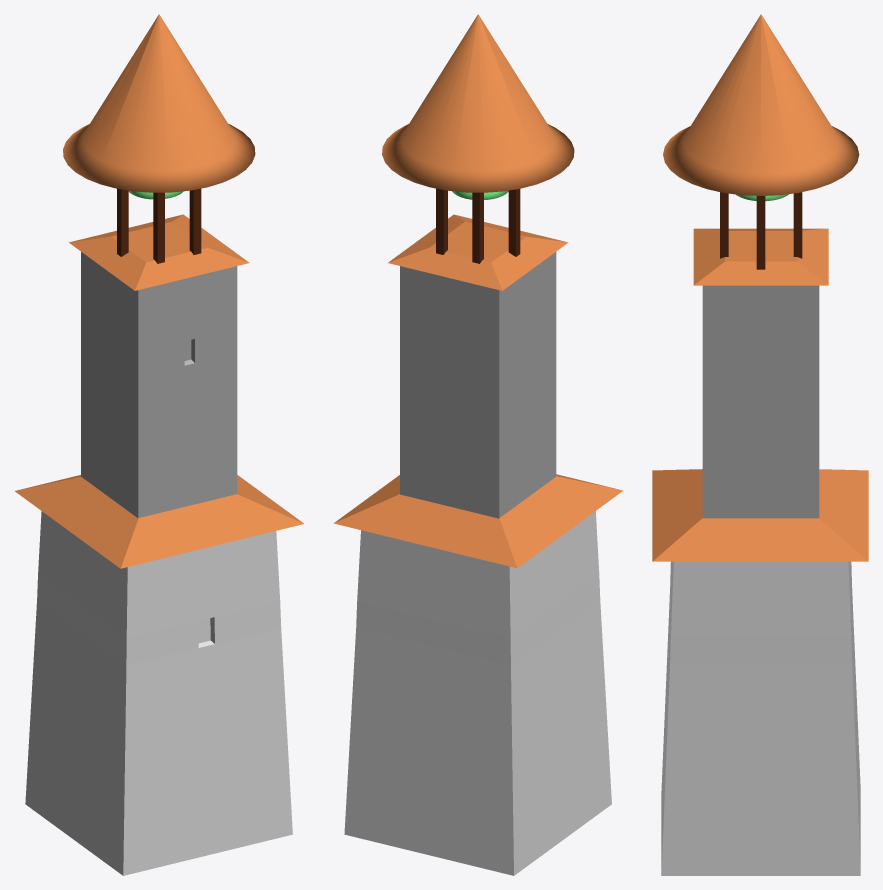
File: clock_tower.fbx
3 views of the same model, side by side, from view 1: azimuth 30°, elevation 25°; view 2: azimuth 150°, elevation 25°; view 3: azimuth 270°, elevation 25° (orthographic).
Visible parts, largest first — view 1: Cube; view 2: Cube; view 3: Cube.
Part boxes in pixels (bbox=[...]): Cube: bbox=[15, 14, 303, 875]; Cube: bbox=[333, 14, 622, 875]; Cube: bbox=[652, 14, 868, 875].
Bounding box in the file's own units: 249 × 1043 × 249.
